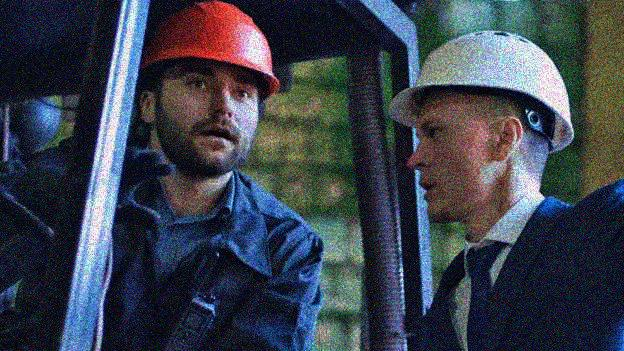helmet: (385, 29, 578, 219), (133, 1, 279, 173)
